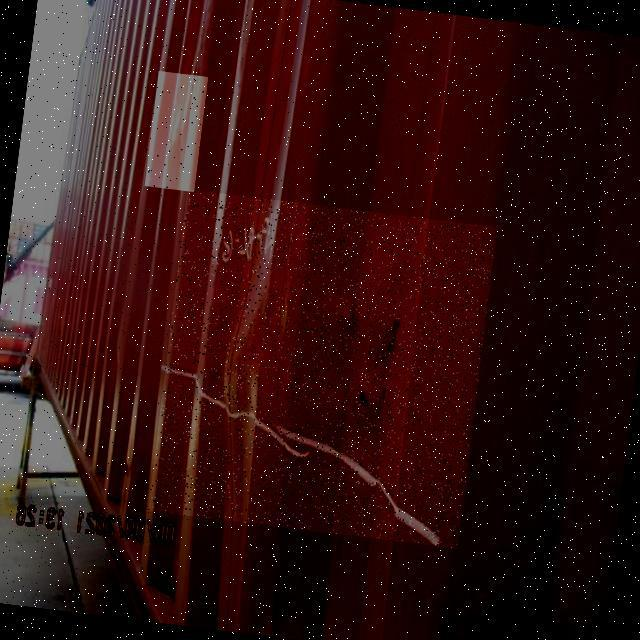Dent: (148, 189, 497, 549)
Minor-Dent: (144, 71, 208, 192)
